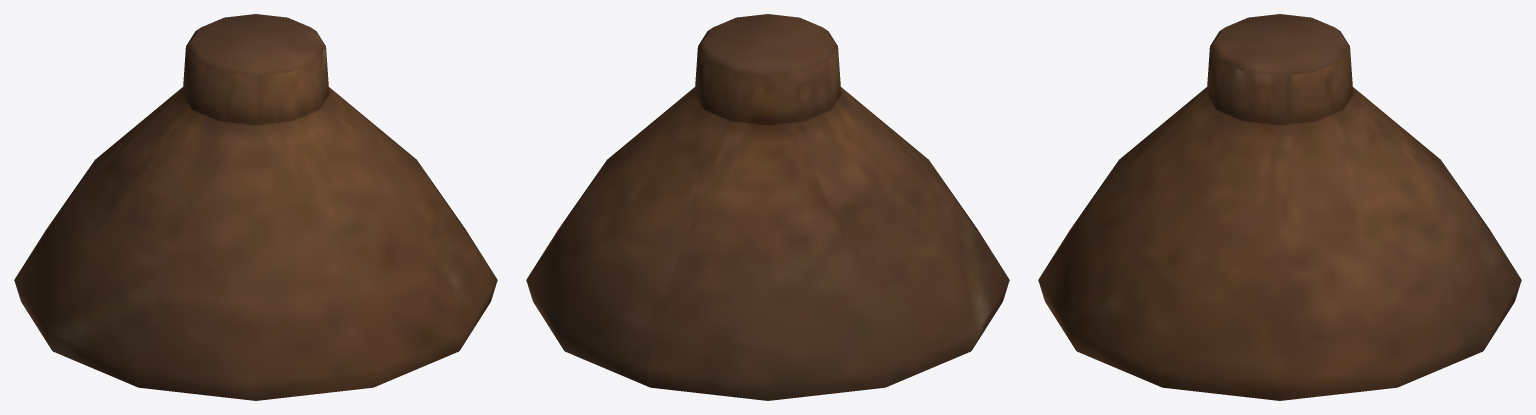
Rendered from charcoalCooker03.FBX.
3 views of the same model, side by side, from view 1: azimuth 30°, elevation 25°; view 2: azimuth 150°, elevation 25°; view 3: azimuth 270°, elevation 25° (orthographic).
Visible parts, largest first — view 1: SM_CharcoalCooker03; view 2: SM_CharcoalCooker03; view 3: SM_CharcoalCooker03.
Boxes of the visible parts, x1,y1,x2,y2 form: SM_CharcoalCooker03: [14, 14, 497, 400]; SM_CharcoalCooker03: [526, 14, 1009, 400]; SM_CharcoalCooker03: [1038, 14, 1521, 400].
Bounding box in the file's own units: 9.49 × 5.65 × 9.49.
Materials: 1 (1 with a texture image).
